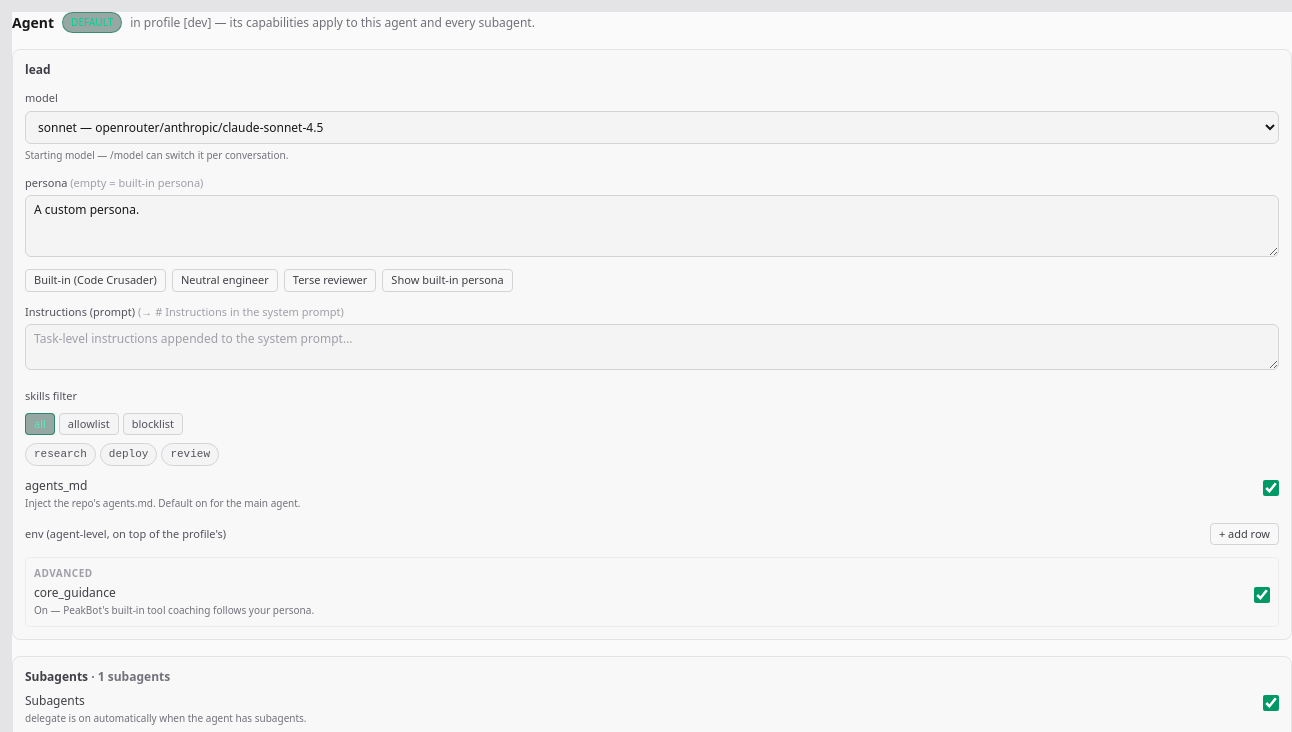
Test: agent page (T28) › subagents_toggle_undo_restores
Click the 3rd checkbox with test id "input" at (1271, 703), box top-left (1263, 695), bottom-right (1279, 711)
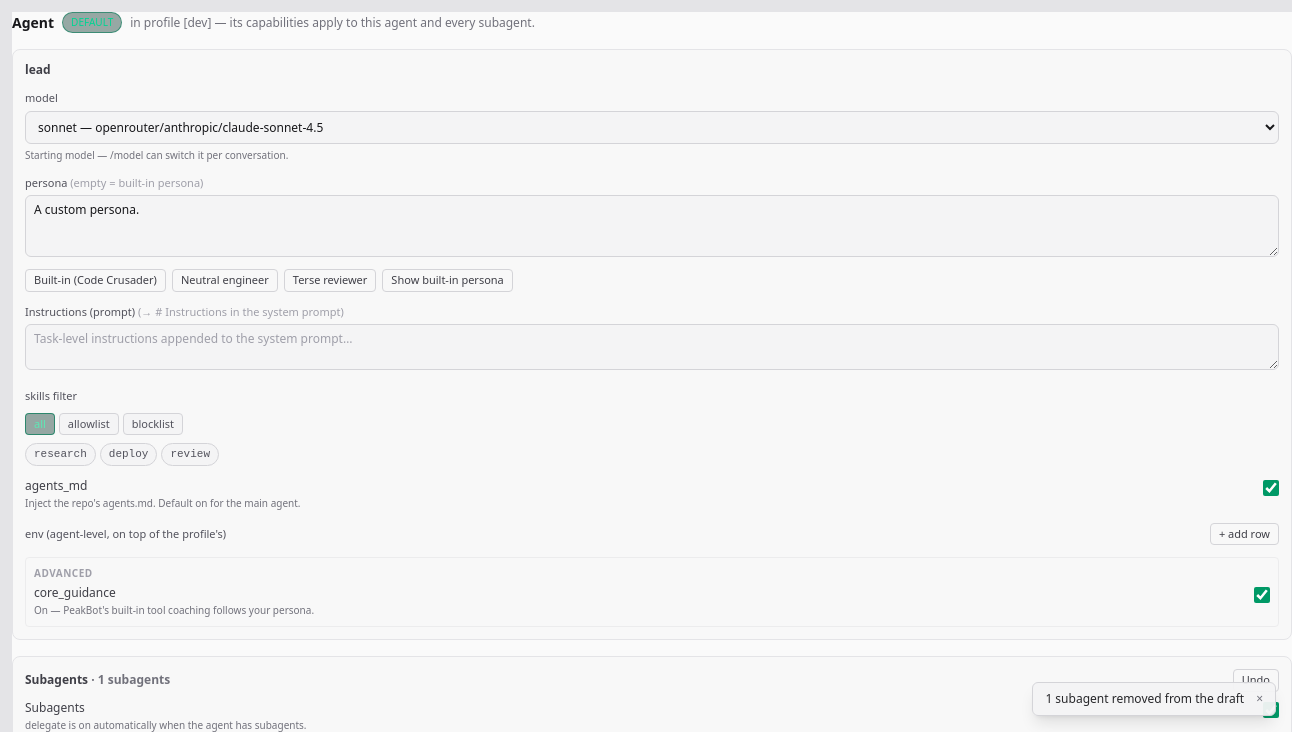
Click the button with test id "agent-subs-undo" at (1256, 680), box top-left (1233, 669), bottom-right (1279, 692)
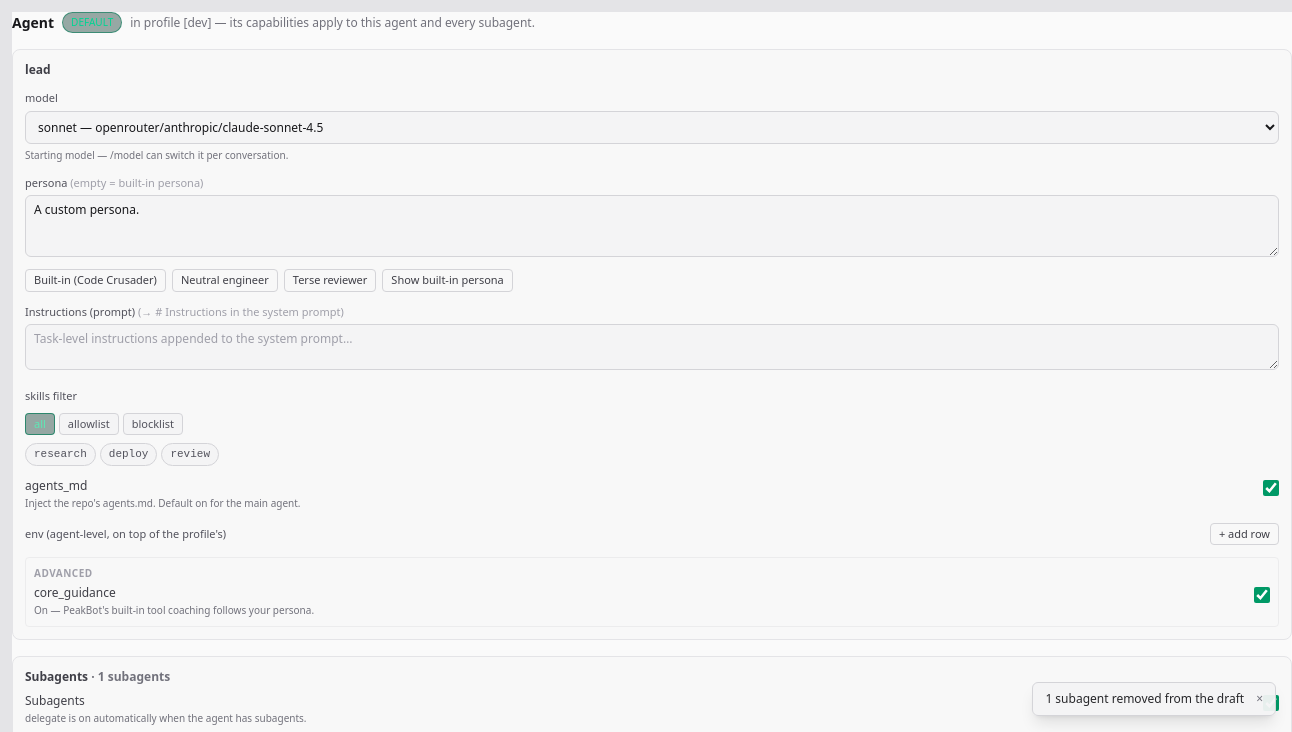
Expected: the button with test id "agent-subs-undo" is gone
